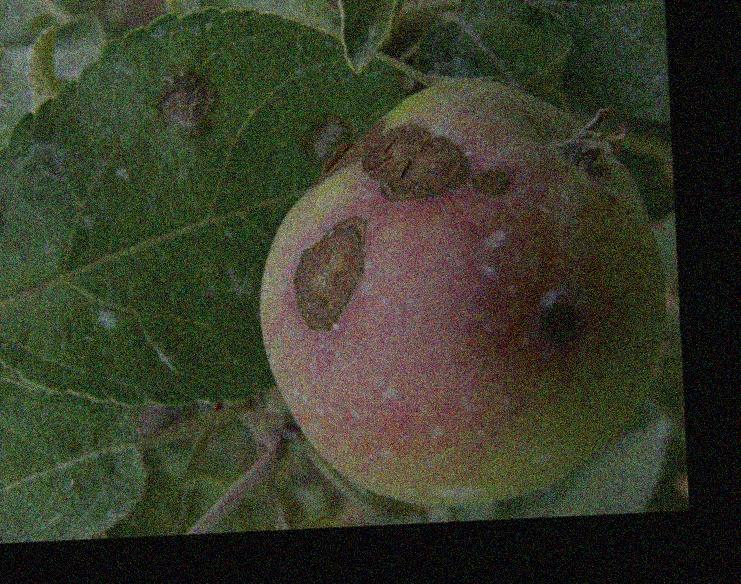rotten apple: (240, 83, 664, 509)
